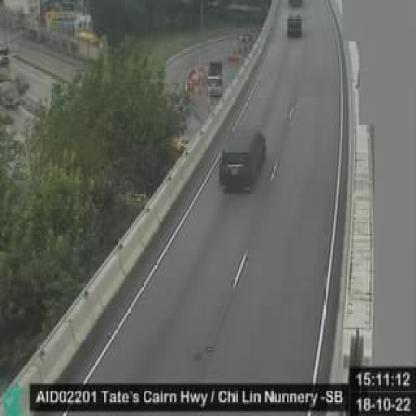Car: (219, 129, 268, 194), (288, 12, 304, 38)
